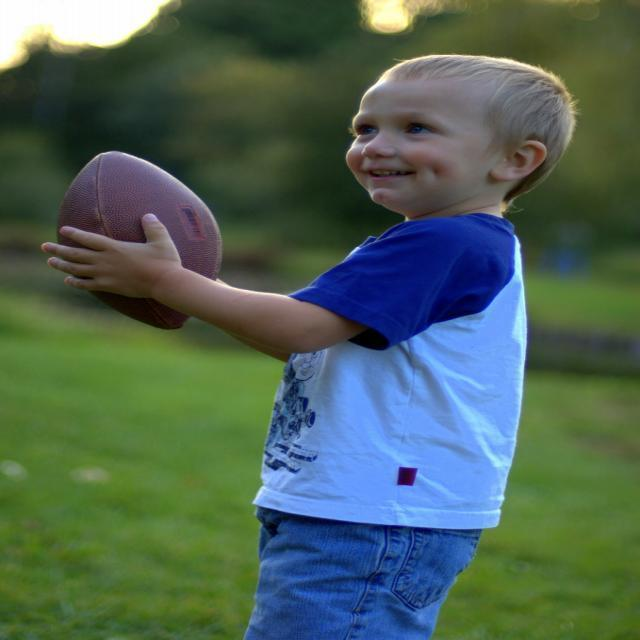ball: (56, 152, 221, 333)
